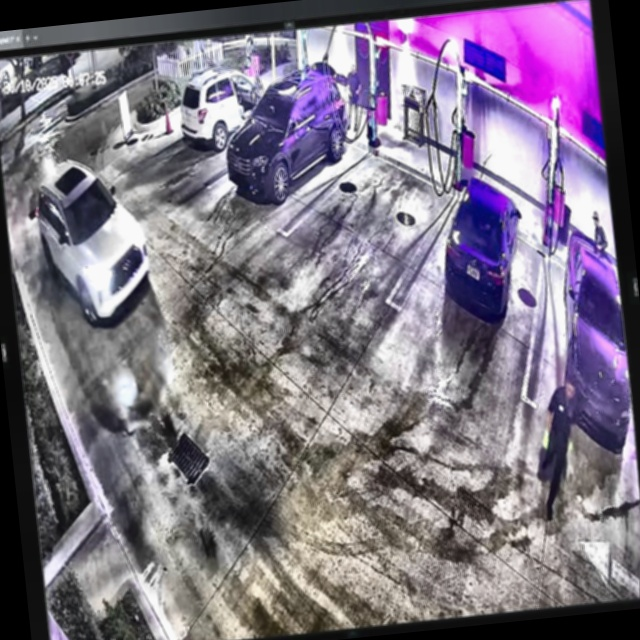Car: (219, 67, 355, 210), (435, 174, 530, 324), (175, 66, 277, 151)
